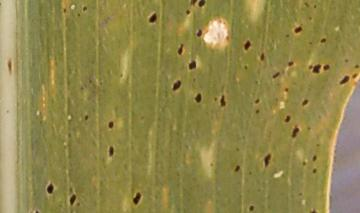tarspot: (5, 56, 15, 77), (290, 123, 301, 141), (146, 10, 159, 25), (170, 78, 183, 93), (45, 179, 55, 197), (262, 151, 272, 169), (338, 74, 351, 87), (311, 62, 323, 76), (131, 190, 142, 205), (241, 38, 252, 52), (175, 42, 185, 57), (292, 24, 304, 36), (192, 90, 203, 103), (187, 59, 198, 72), (218, 93, 227, 108), (68, 192, 77, 207), (106, 119, 116, 130), (232, 163, 242, 174), (194, 27, 203, 39), (107, 145, 115, 158), (300, 98, 310, 108), (271, 70, 281, 80), (322, 63, 331, 74), (196, 1, 208, 9), (351, 71, 360, 81), (310, 166, 319, 176), (258, 51, 266, 62), (310, 152, 318, 163), (247, 204, 256, 213), (285, 59, 294, 68), (319, 36, 328, 45), (80, 4, 89, 13), (252, 97, 261, 106), (302, 1, 311, 10), (283, 114, 291, 124), (224, 33, 232, 43), (184, 7, 192, 16), (74, 200, 83, 208), (82, 113, 90, 122), (306, 13, 314, 22), (97, 79, 105, 88), (307, 206, 317, 213), (353, 62, 360, 72), (306, 63, 314, 71), (75, 11, 83, 19), (60, 6, 68, 14), (253, 107, 261, 115), (233, 145, 241, 153), (304, 124, 312, 132), (78, 84, 86, 92), (212, 94, 219, 103), (300, 159, 307, 168), (296, 190, 305, 197), (314, 141, 321, 150), (86, 77, 93, 86), (282, 86, 290, 93), (208, 160, 215, 168), (342, 57, 349, 65), (311, 2, 318, 10), (4, 107, 11, 115), (188, 1, 197, 7), (118, 71, 124, 80), (66, 130, 72, 139), (253, 78, 260, 85), (242, 64, 250, 70), (283, 32, 291, 38), (247, 169, 253, 177), (33, 208, 41, 213), (306, 39, 314, 44)
